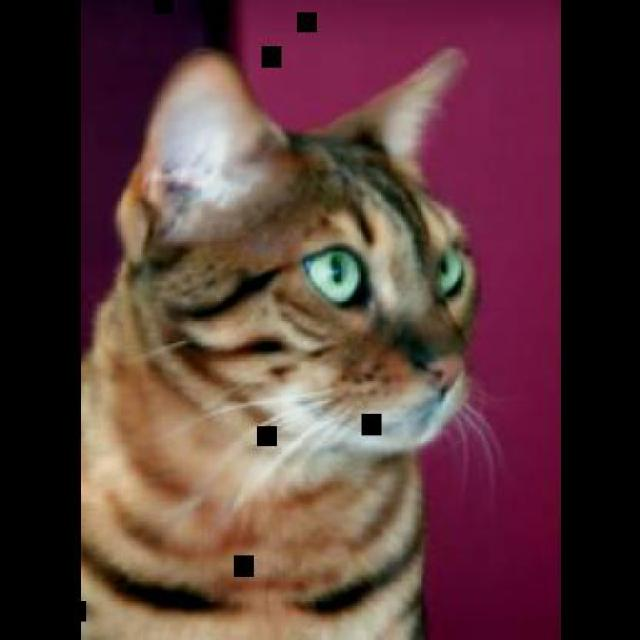unauthorized: (78, 43, 504, 639)
